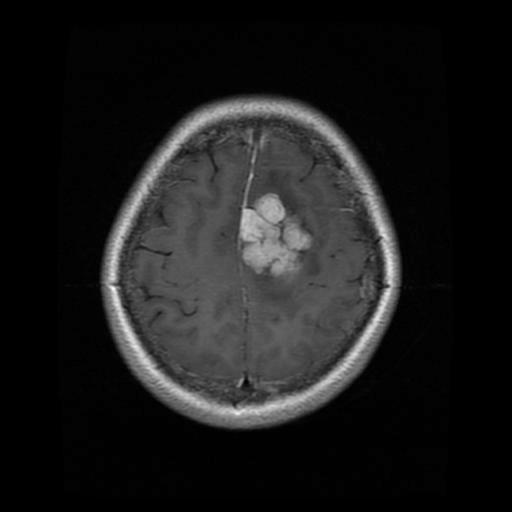Tumour-Pituitary: (217, 189, 330, 304)
